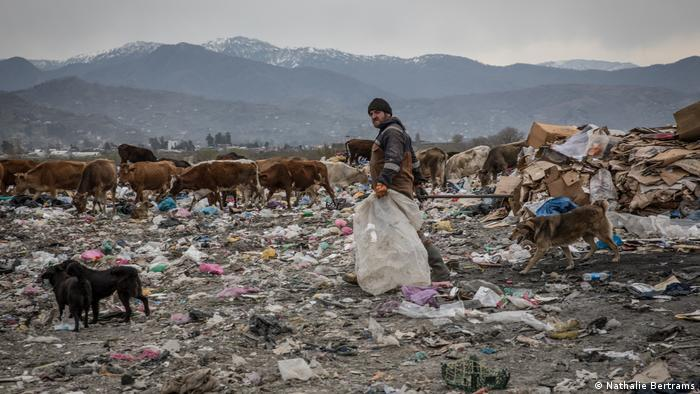garbage: (0, 198, 376, 298), (458, 130, 700, 248)
